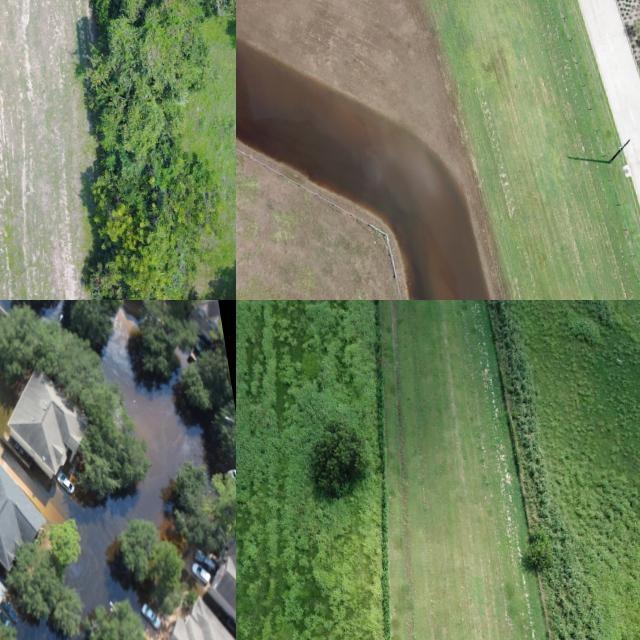fire: (236, 37, 490, 300), (69, 331, 203, 612)
